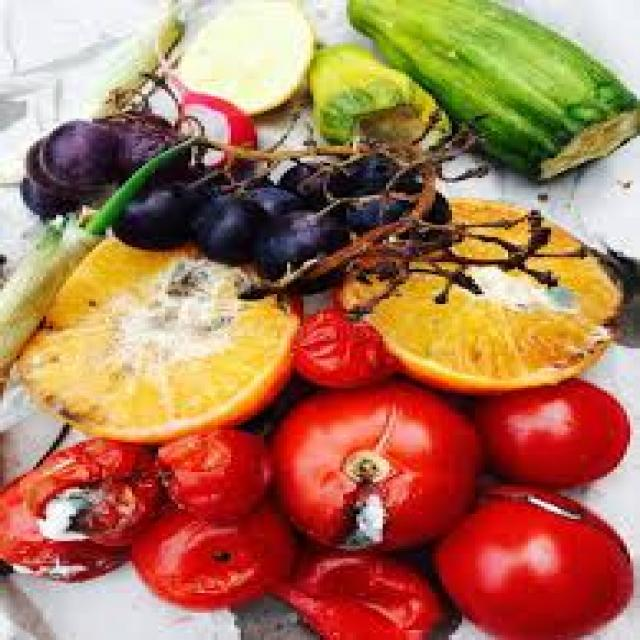organic waste: (343, 0, 636, 185), (10, 235, 294, 425), (350, 198, 624, 380), (267, 386, 482, 548), (429, 489, 637, 638), (132, 504, 294, 610), (175, 0, 310, 119), (280, 548, 456, 638), (472, 380, 624, 484), (20, 430, 158, 541), (307, 42, 445, 141), (0, 479, 132, 581), (152, 52, 254, 165), (155, 430, 267, 516), (105, 166, 218, 242), (290, 304, 396, 385), (250, 210, 350, 287), (346, 185, 449, 240), (40, 119, 119, 190), (20, 141, 106, 205), (188, 190, 261, 264), (17, 175, 112, 222), (99, 111, 172, 163), (277, 158, 347, 205), (350, 153, 412, 193), (240, 178, 294, 222)
